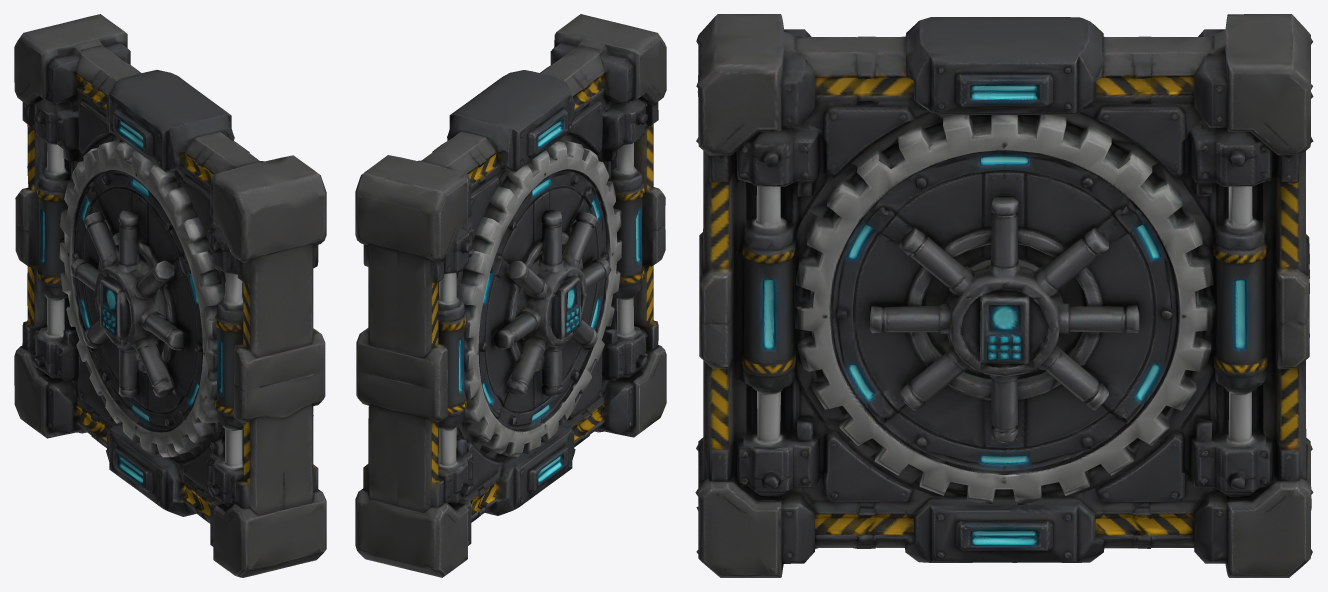
The model's file is VaultDoor.glb.
3 views of the same model, side by side, from view 1: azimuth 30°, elevation 25°; view 2: azimuth 150°, elevation 25°; view 3: azimuth 270°, elevation 25° (orthographic). The views are drawn at different scales.
Visible parts, largest first — view 1: Mesh::generatedModels/kilDO2zn5RZUxEh8NJcc.gltf; view 2: Mesh::generatedModels/kilDO2zn5RZUxEh8NJcc.gltf; view 3: Mesh::generatedModels/kilDO2zn5RZUxEh8NJcc.gltf.
Part boxes in pixels (box(x1,y1,x2,y2)): Mesh::generatedModels/kilDO2zn5RZUxEh8NJcc.gltf: box(14, 14, 326, 577); Mesh::generatedModels/kilDO2zn5RZUxEh8NJcc.gltf: box(355, 14, 666, 577); Mesh::generatedModels/kilDO2zn5RZUxEh8NJcc.gltf: box(695, 14, 1313, 577).
Size of the model in its own units: 0.3105 by 0.9309 by 1.
Materials: 1 (1 with a texture image).
